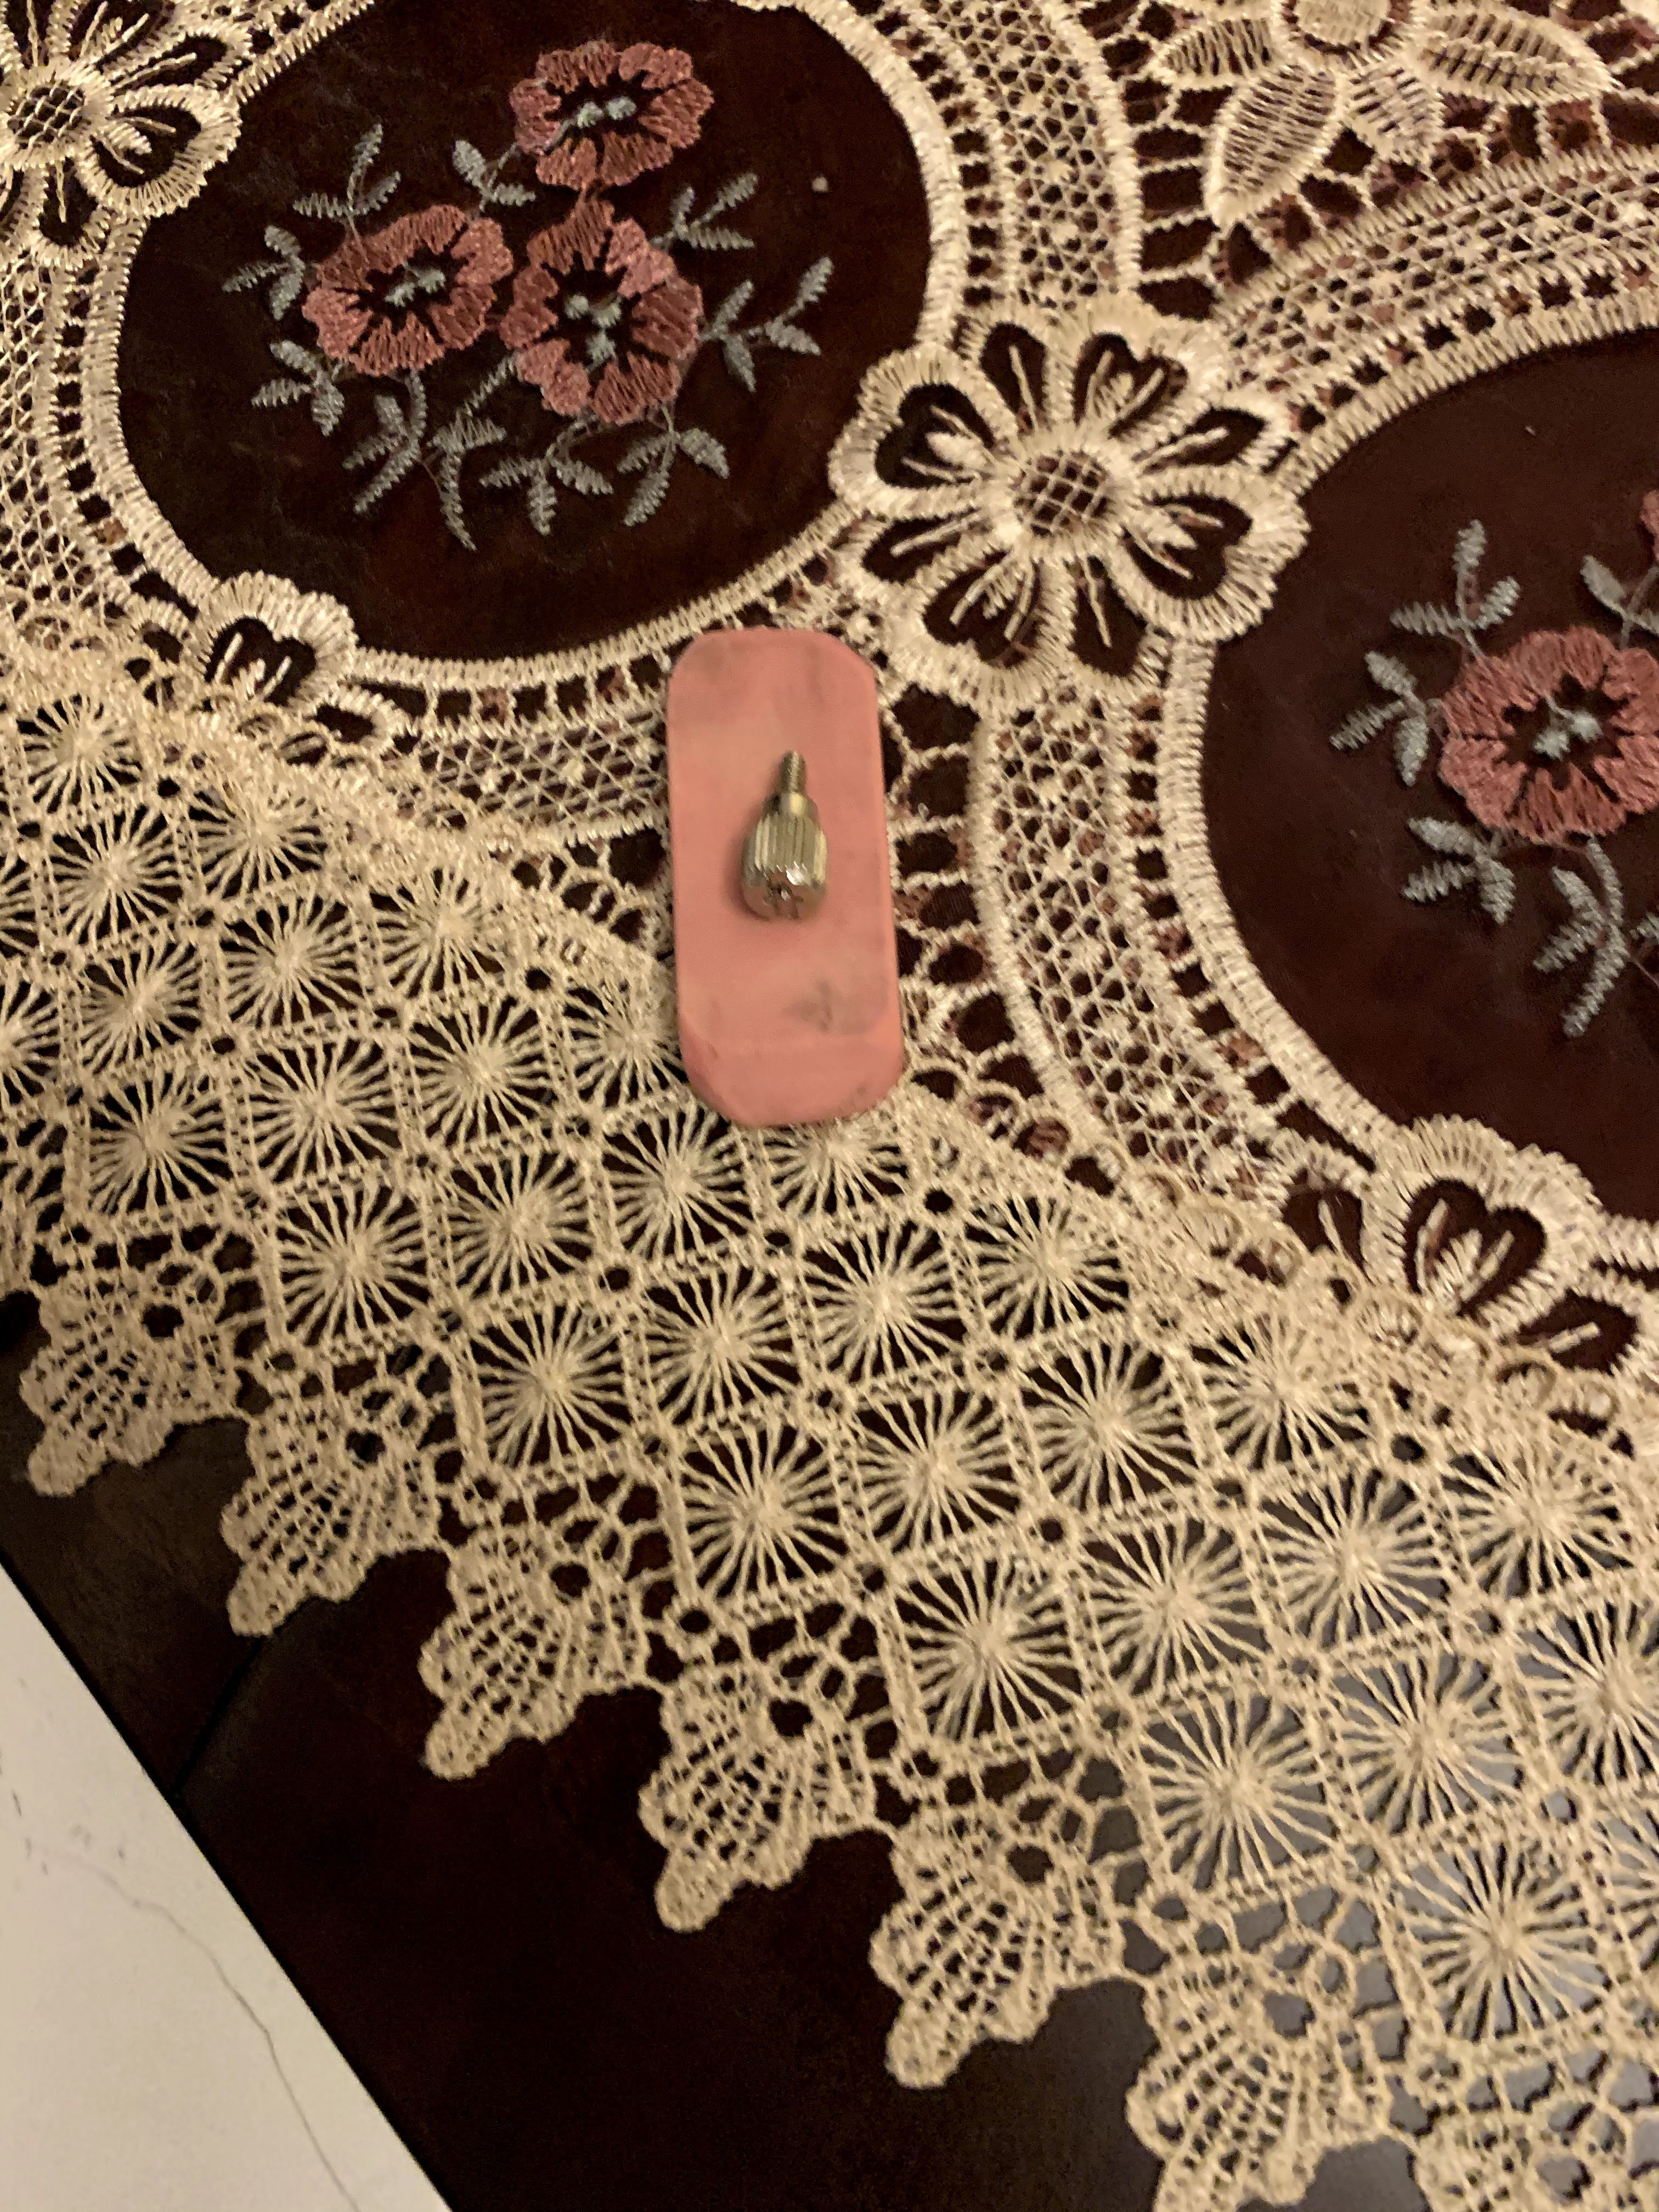Space-debris-small: (728, 738, 842, 930)
